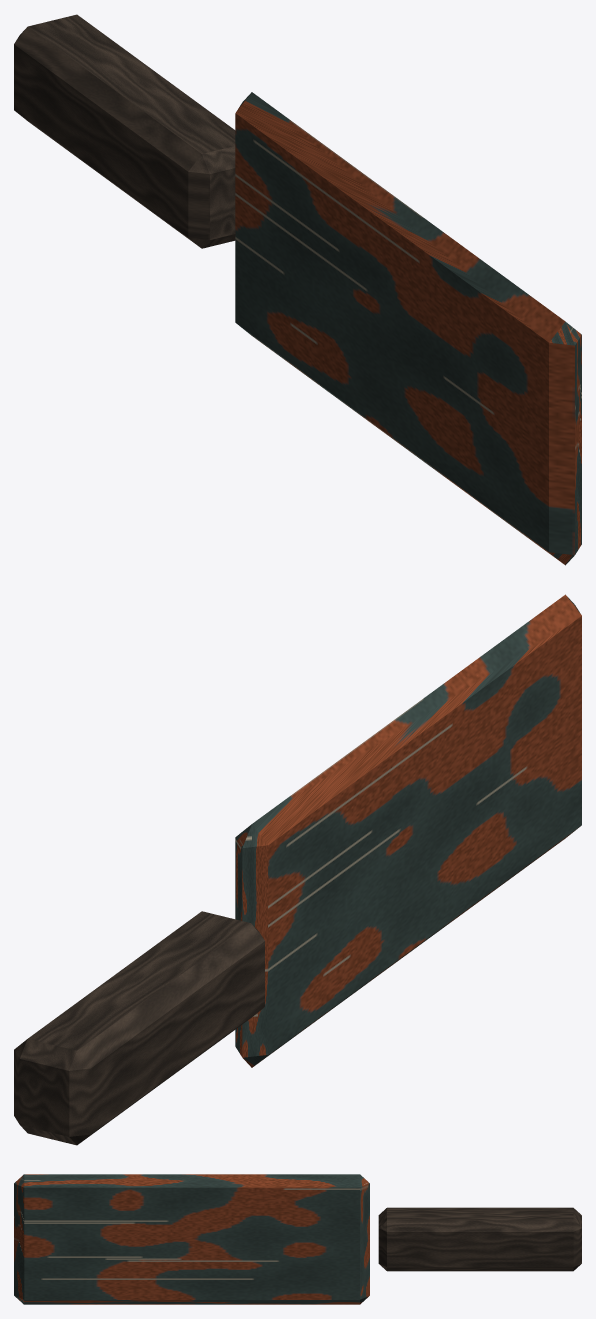
The model's file is cleaver.glb.
3 views of the same model, one above another, from view 1: azimuth 30°, elevation 25°; view 2: azimuth 150°, elevation 25°; view 3: azimuth 270°, elevation 25° (orthographic). The views are drawn at different scales.
Visible parts, largest first — view 1: gear__BODY.001; view 2: gear__BODY.001; view 3: gear__BODY.001.
Boxes of the visible parts, x1=… form: gear__BODY.001: x1=14, y1=14, x2=581, y2=565; gear__BODY.001: x1=14, y1=594, x2=581, y2=1145; gear__BODY.001: x1=14, y1=1174, x2=581, y2=1304.
Bounding box in the file's own units: 0.028 × 0.085 × 0.335.
2 materials, 2 textured.
